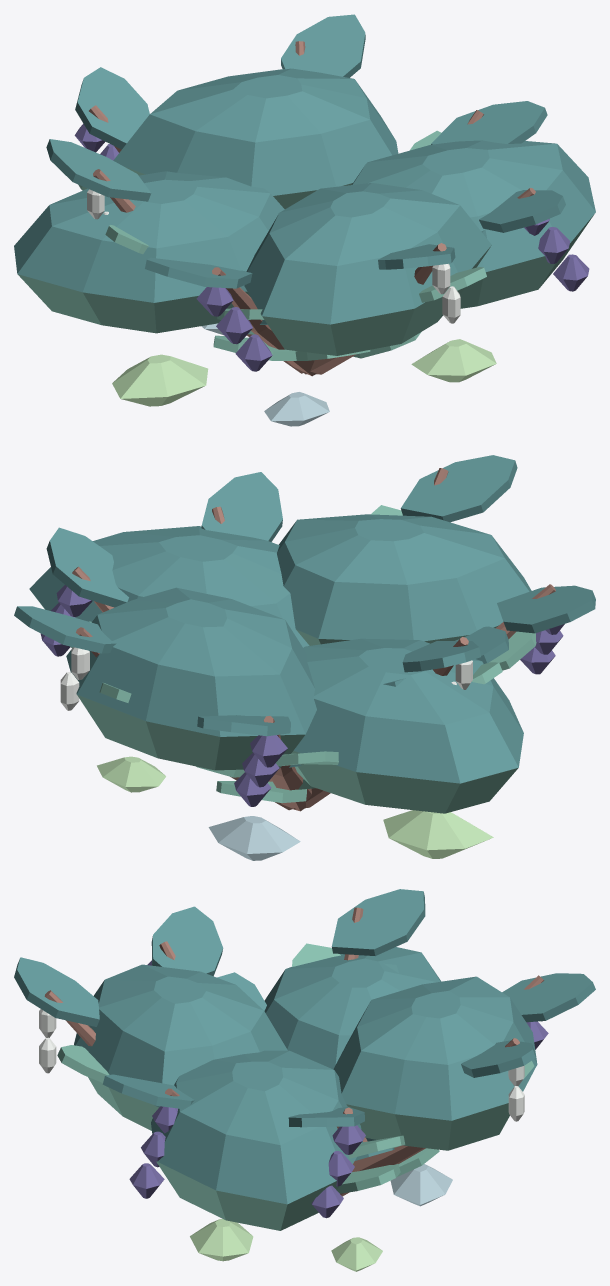
The model's file is lagoon_shrub_salal.glb.
3 renders of one model, top to bottom at view 1: azimuth 30°, elevation 25°; view 2: azimuth 150°, elevation 25°; view 3: azimuth 270°, elevation 25°, orthographic. The views are drawn at different scales.
Parts seen in each view (by area): view 1: lagoon_shrub_salal.001; view 2: lagoon_shrub_salal.001; view 3: lagoon_shrub_salal.001.
Boxes of the visible parts, x1,y1,x2,y2 form: lagoon_shrub_salal.001: [14, 14, 595, 426]; lagoon_shrub_salal.001: [14, 455, 595, 860]; lagoon_shrub_salal.001: [14, 889, 595, 1271].
Bounding box in the file's own units: 3.08 × 1.36 × 3.13.
